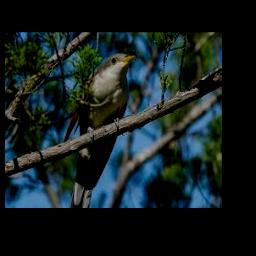Cuckoo: (63, 53, 137, 208)
